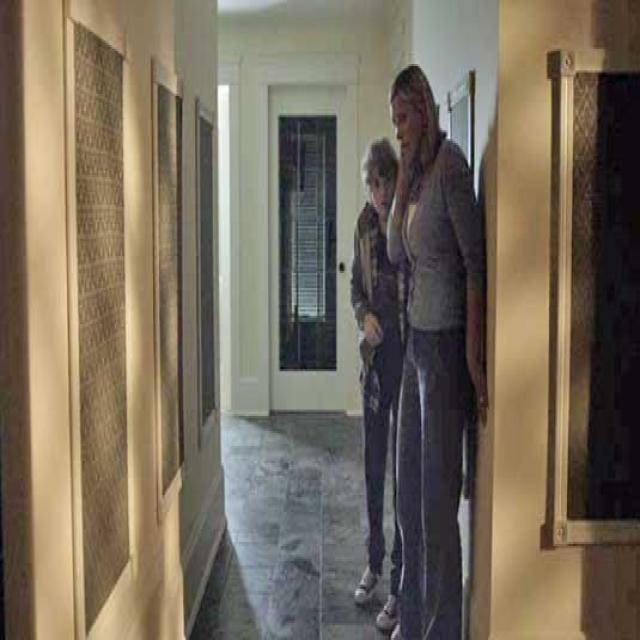intrusion detected: (351, 73, 489, 640), (384, 68, 486, 640), (352, 138, 401, 632)
